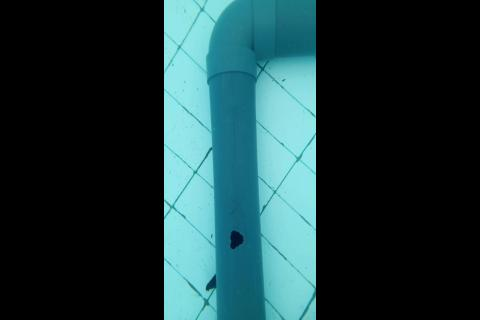kebocoran: (229, 228, 245, 250)
